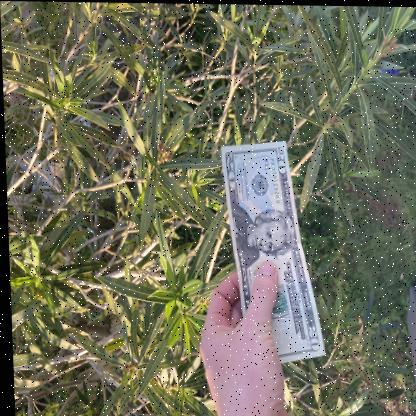twenty-front: (221, 142, 325, 361)
